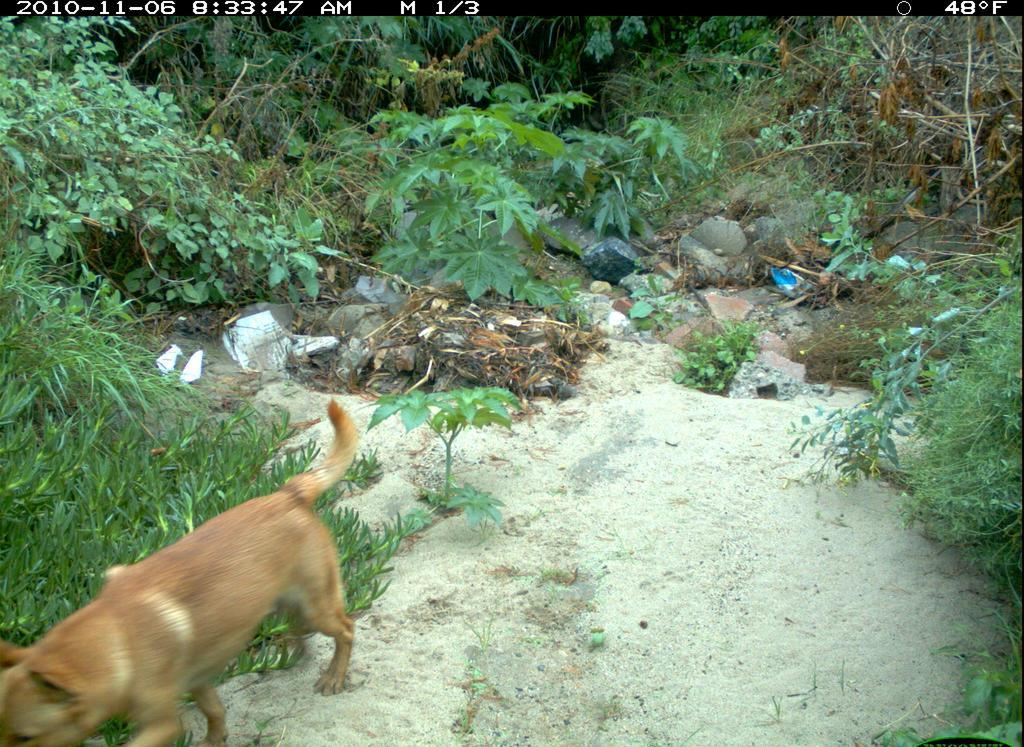dog: (4, 386, 397, 747)
